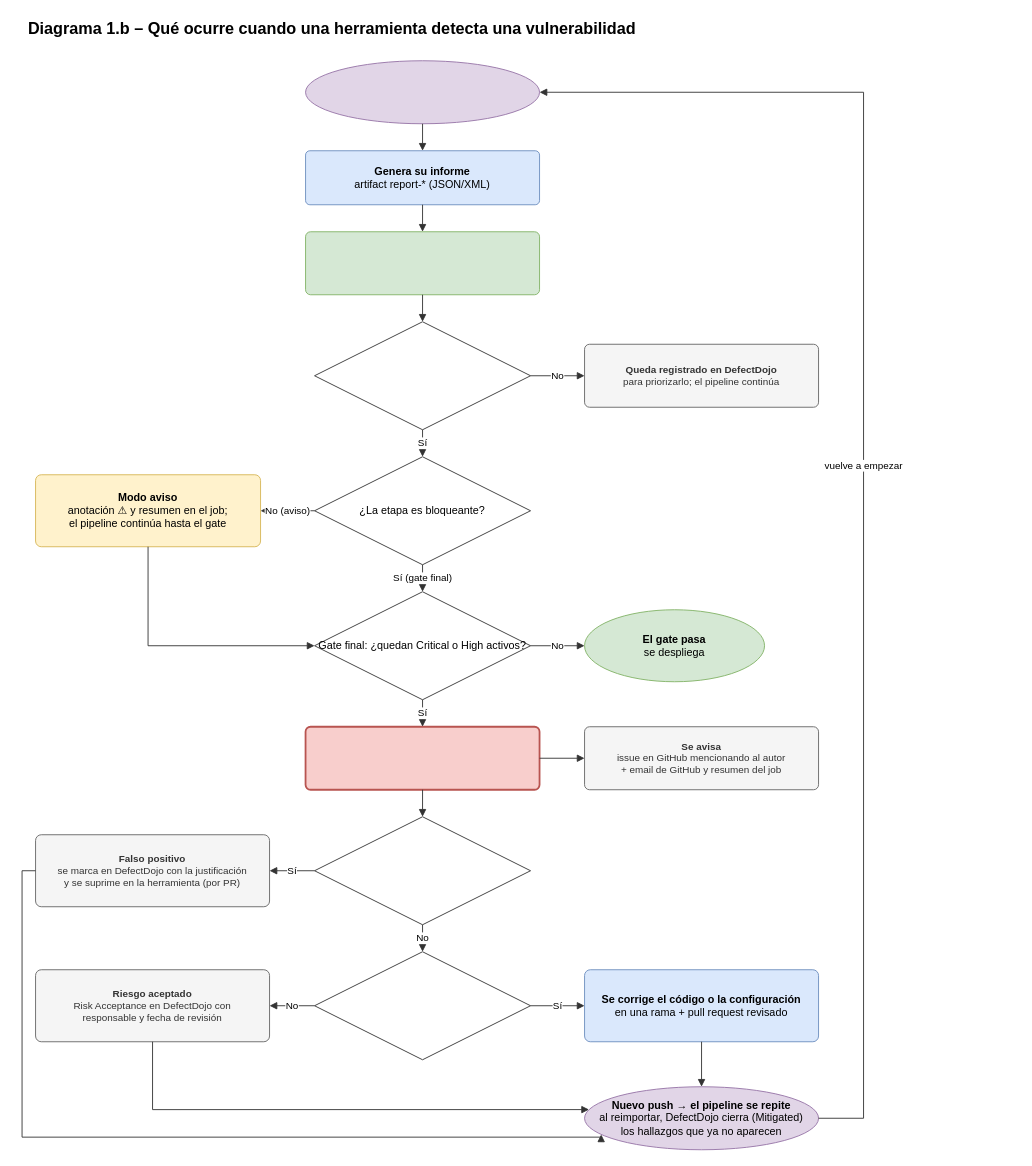
Image size: 1032x1166. Some labels were removed from this diagram. The centre of each missing label's shape, as x and y in pixels:
El pipeline se detiene no se despliega: (422,757)
Importación automática a DefectDojo API v2 reimport · si no responde, solo avisa: (422,263)
Triaje en DefectDojo: ¿es un falso positivo?: (422,870)
Una herramienta detecta un hallazgo SAST, SCA, IaC, imagen o DAST: (422,92)
¿Se corrige ahora?: (422,1005)
¿Supera el umbral de la herramienta? (Critical/High): (422,375)
